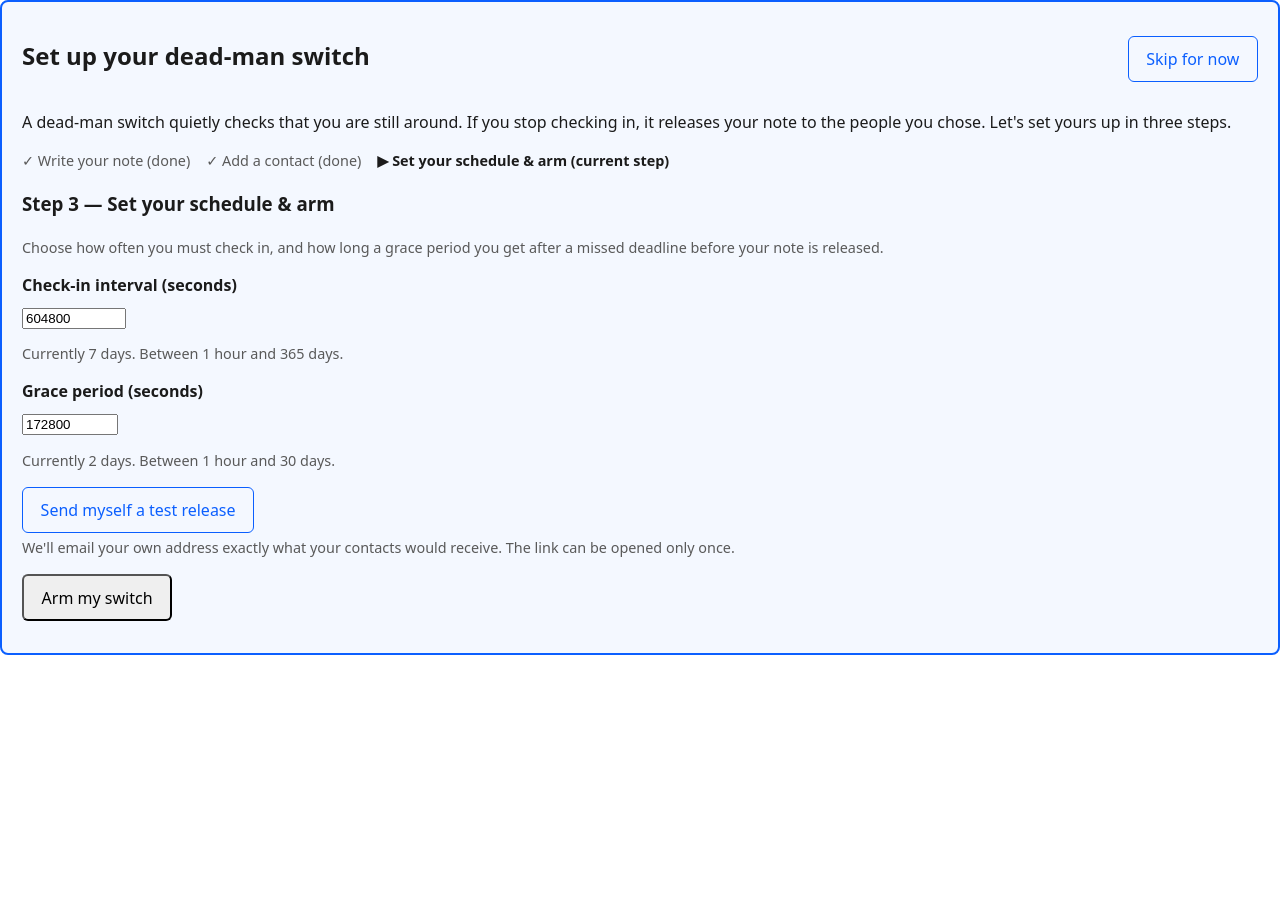
Test: OnboardingWizard — step progress + resume (US1) › arms via putConfig after an explicit confirm, then moves to completion
Check: the number field labelled "Check-in interval (seconds)" is shown, box left=22, top=308, right=126, bottom=329
Click the button "Arm my switch".
click(97, 598)  # box left=22, top=574, right=172, bottom=621
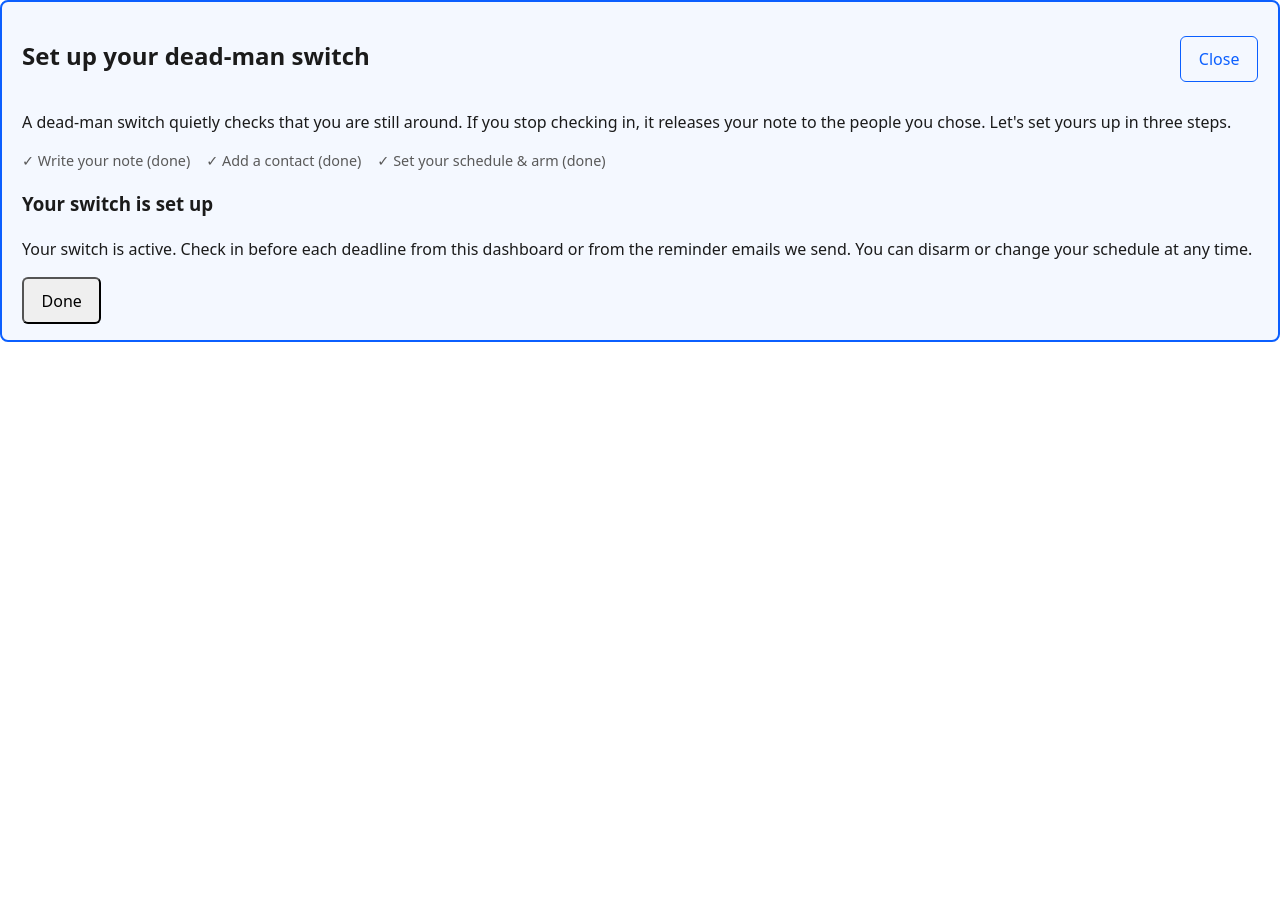
Check: the heading "Your switch is set up" is shown, box left=22, top=191, right=213, bottom=216
